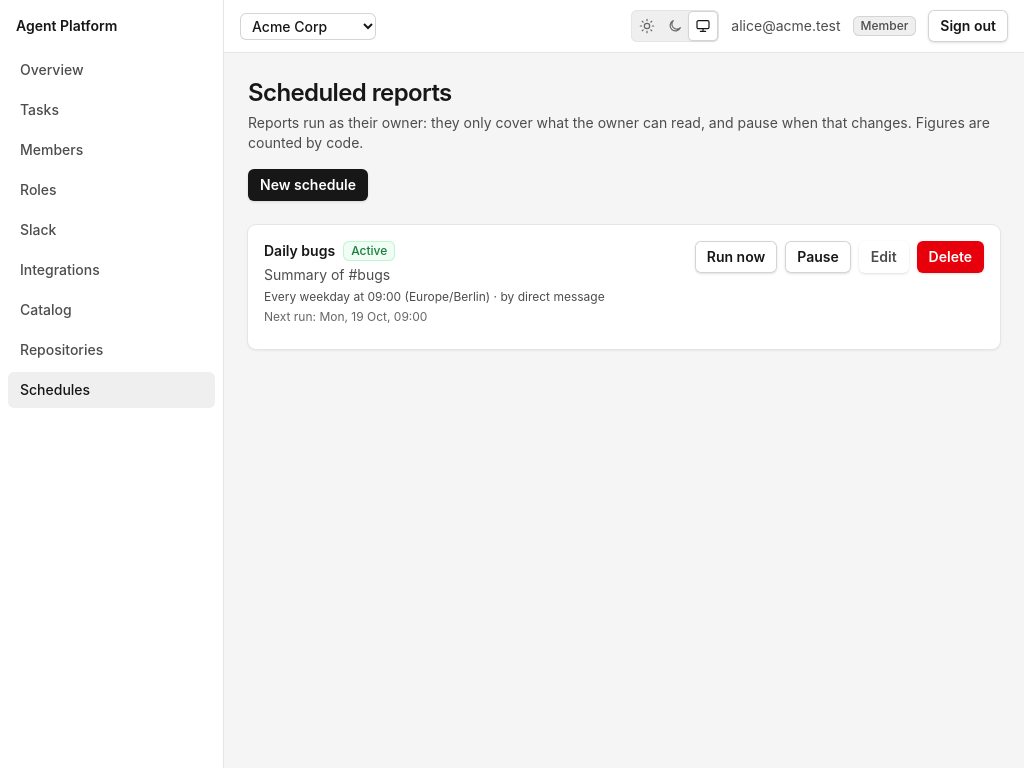
it: Schedules page › pauses, runs now and deletes after confirming
Step 1. Click the button "Run now" → (736, 257), box top-left (695, 241), bottom-right (777, 273)
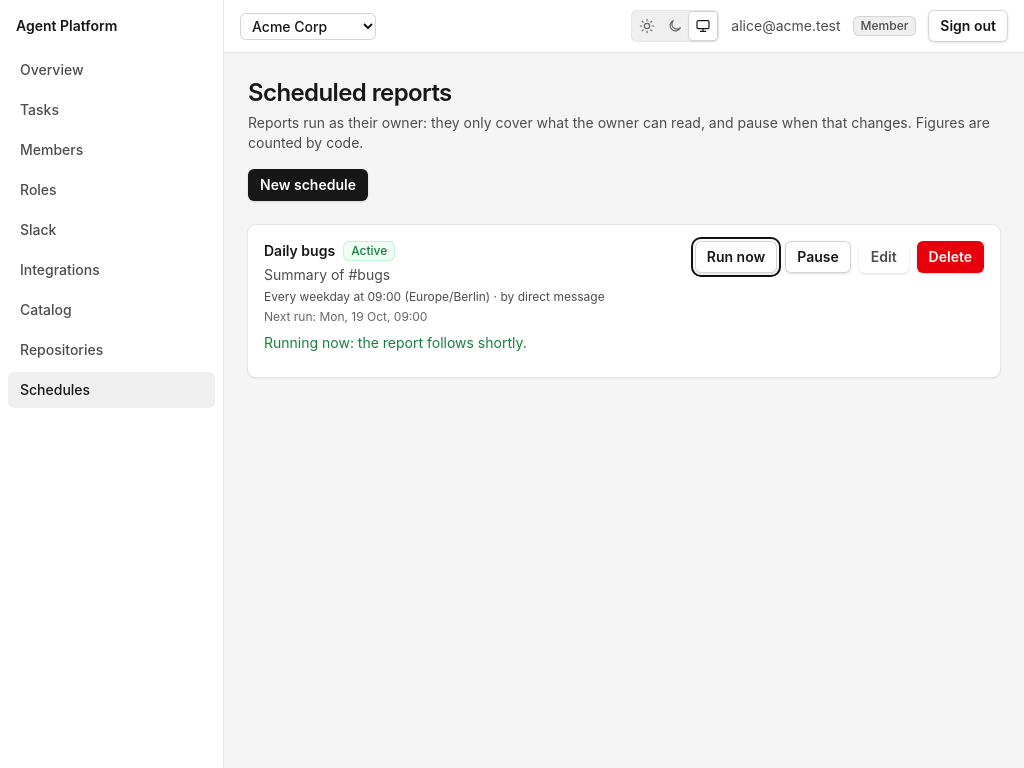
expect the text "Running now: the report follows shortly." is shown: met, box top-left (264, 334), bottom-right (527, 351)
Step 2. Click the button "Pause" → (818, 257), box top-left (785, 241), bottom-right (851, 273)
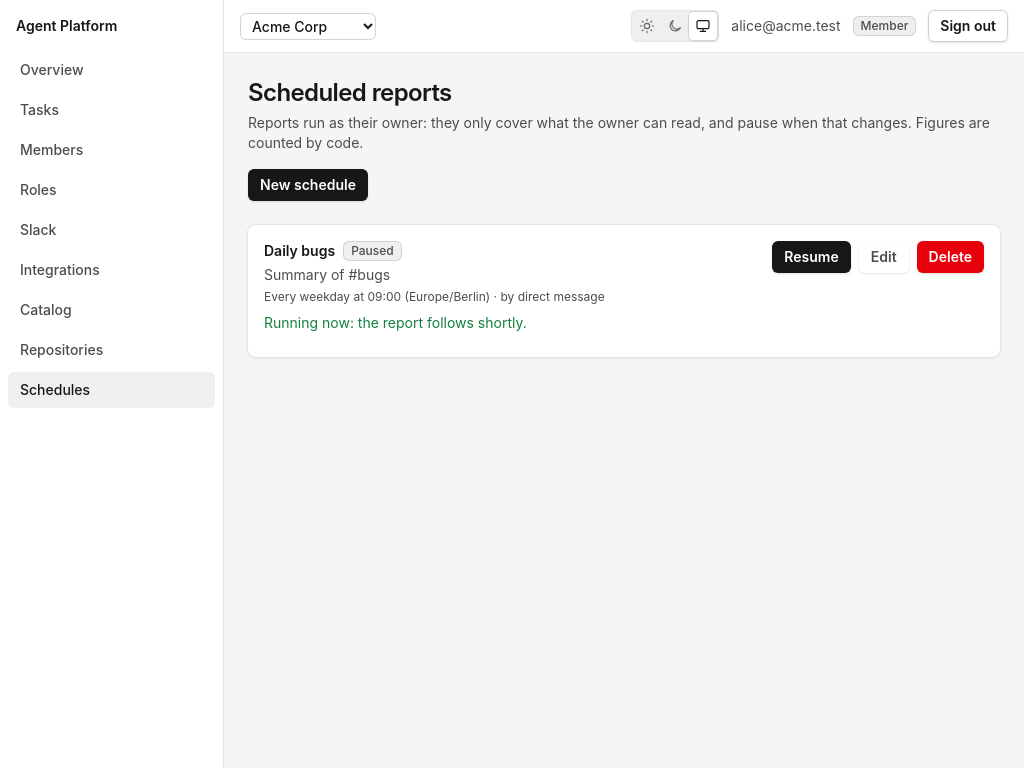
expect the button "Resume" is enabled: met, box top-left (772, 241), bottom-right (851, 273)
Step 3. Click the button "Delete" → (950, 257), box top-left (917, 241), bottom-right (984, 273)
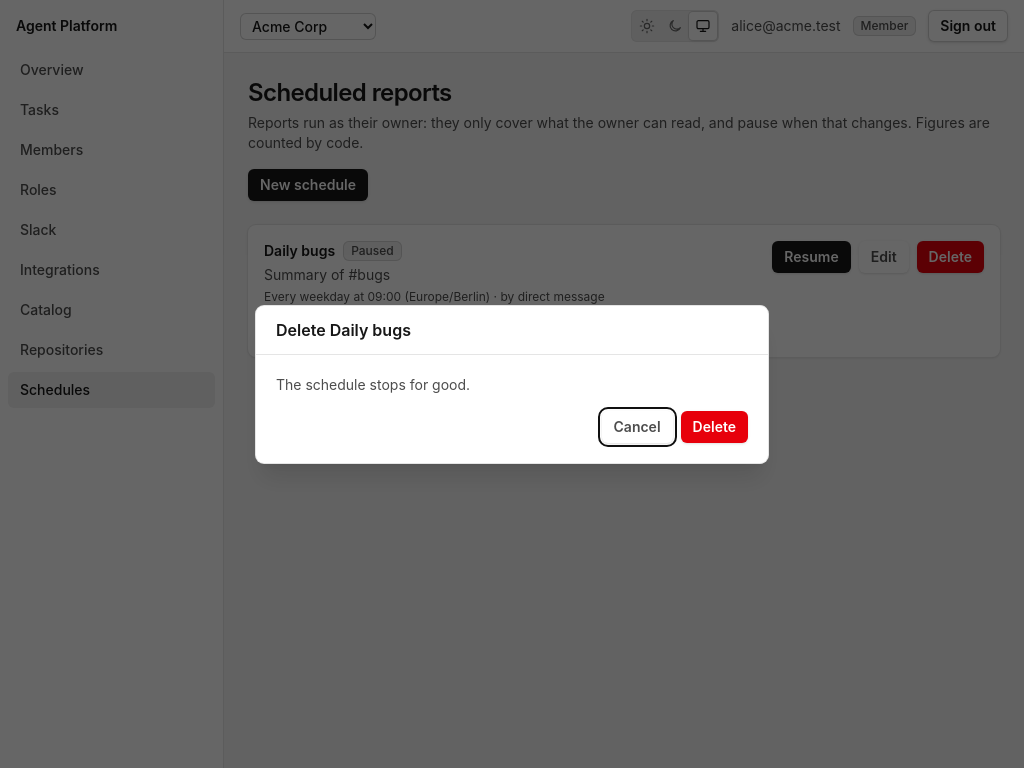
Step 4. Click the button "Delete" → (714, 426), box top-left (681, 410), bottom-right (748, 442)
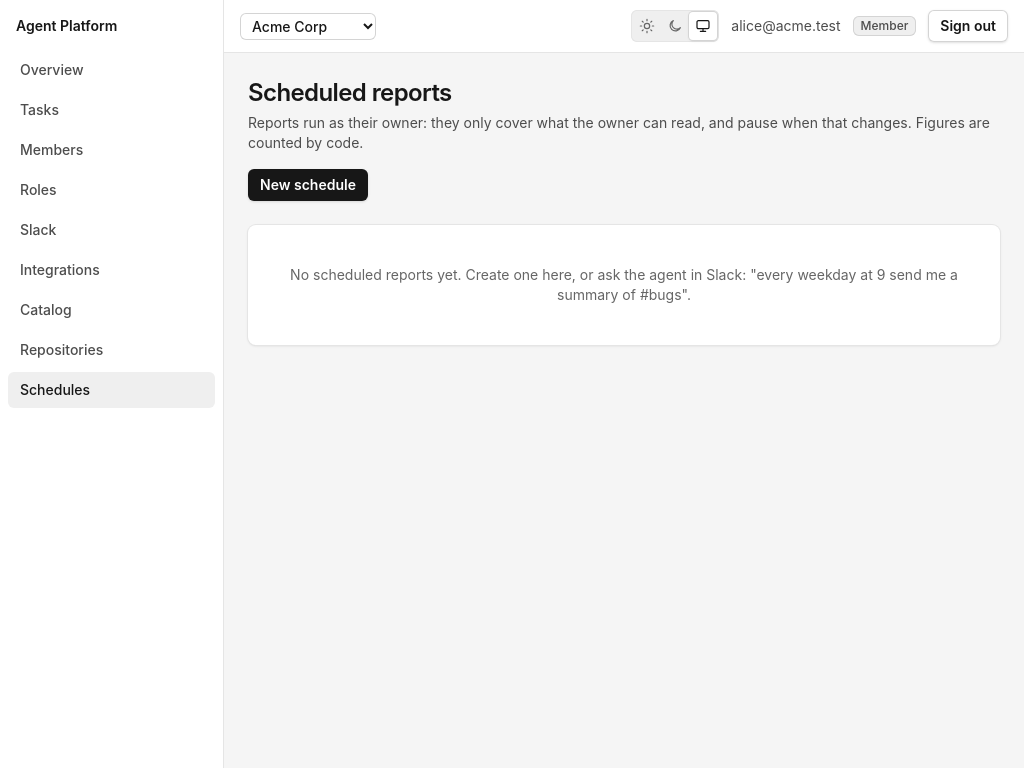
expect the text "No scheduled reports yet" is shown: met, box top-left (290, 266), bottom-right (958, 303)
